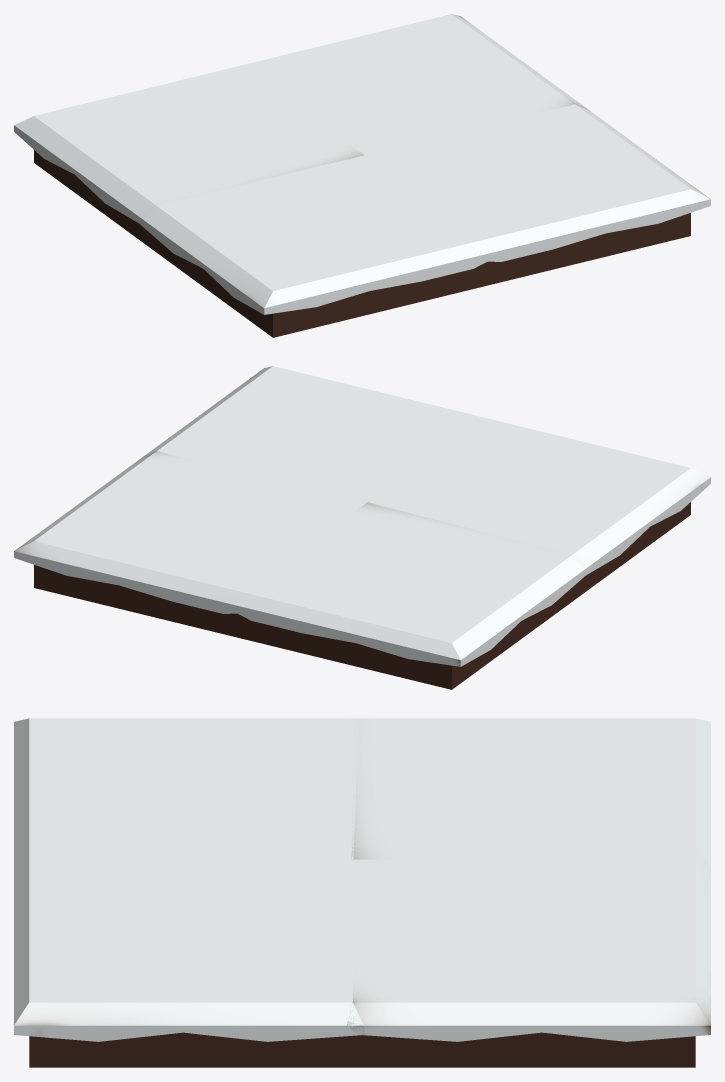
The model's file is SNOWPLATFORM.dae.
The picture shows the model from 3 angles, top to bottom: view 1: azimuth 30°, elevation 25°; view 2: azimuth 150°, elevation 25°; view 3: azimuth 270°, elevation 25°; orthographic projection. The views are drawn at different scales.
Visible parts, largest first — view 1: Plane; view 2: Plane; view 3: Plane.
Boxes of the visible parts, <box> form: Plane: <box>14,14,710,337</box>; Plane: <box>14,366,710,689</box>; Plane: <box>14,718,710,1067</box>.
Size of the model in its own units: 5.28 by 5.12 by 0.5275.
